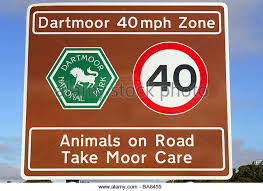Speed_limit_40km: (130, 41, 209, 115)
